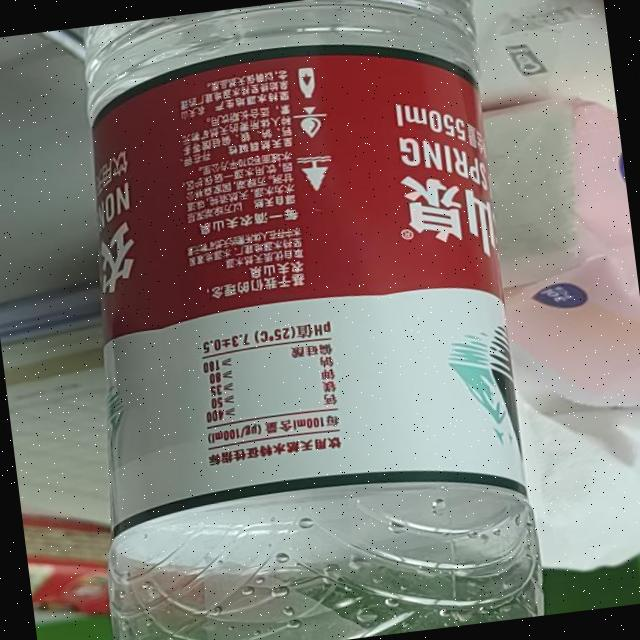bottle: (41, 0, 555, 640)
label: (76, 24, 539, 530)
